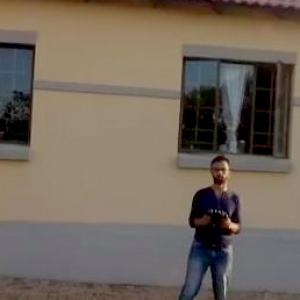follow: (165, 153, 247, 299)
